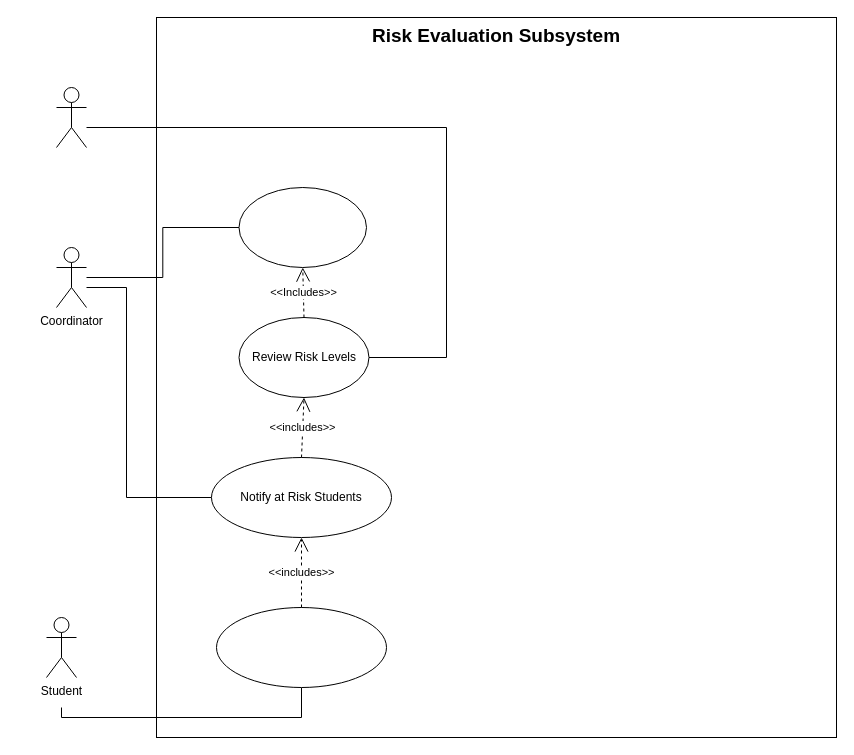
This 854x755 diagram has some shape labels left out. Each missing label, with the centre of its shape:
"Head of Department" belongs at point (71, 117).
"Receive Risk Notification" belongs at point (301, 647).
"Select Module to review" belongs at point (302, 227).
